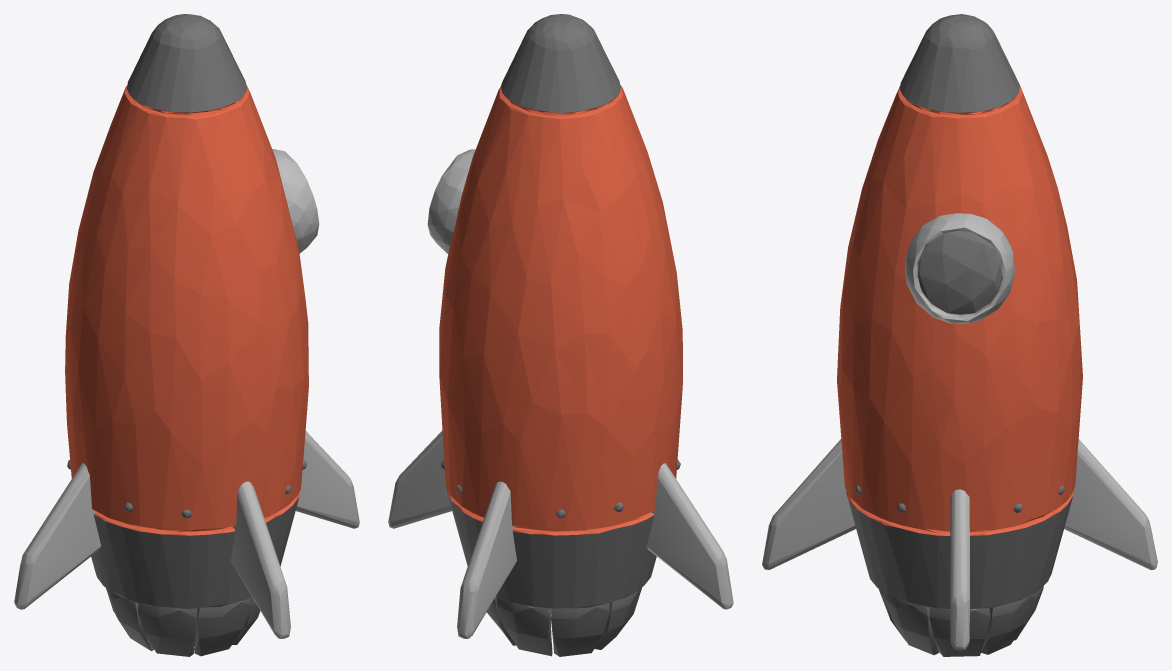
The model's file is rocket.glb.
3 views of the same model, side by side, from view 1: azimuth 30°, elevation 25°; view 2: azimuth 150°, elevation 25°; view 3: azimuth 270°, elevation 25° (orthographic).
Visible parts, largest first — view 1: Cylinder.1, Connect_1, Cube_3, Cube_2, Cube_1, Cylinder; view 2: Cylinder.1, Cube_3, Connect_1, Cube_0, Cube_1, Cylinder; view 3: Cylinder.1, Cube_2, Cube_0, Connect_1, Sphere_1, Cylinder, Cube_1.
Boxes of the visible parts, bbox=[...] form: Cylinder.1: bbox=[65, 14, 308, 609]; Connect_1: bbox=[106, 588, 260, 656]; Cube_3: bbox=[14, 463, 101, 609]; Cube_2: bbox=[231, 481, 290, 638]; Cube_1: bbox=[295, 431, 359, 528]; Cylinder: bbox=[272, 149, 319, 253]; Cylinder.1: bbox=[439, 14, 682, 608]; Cube_3: bbox=[646, 463, 733, 609]; Connect_1: bbox=[486, 588, 641, 656]; Cube_0: bbox=[457, 481, 516, 638]; Cube_1: bbox=[388, 431, 451, 528]; Cylinder: bbox=[427, 149, 475, 253]; Cylinder.1: bbox=[837, 14, 1082, 609]; Cube_2: bbox=[762, 439, 855, 569]; Cube_0: bbox=[1064, 439, 1157, 569]; Connect_1: bbox=[878, 586, 1043, 656]; Sphere_1: bbox=[918, 230, 1001, 314]; Cylinder: bbox=[904, 213, 1014, 324]; Cube_1: bbox=[950, 489, 969, 650].
Bounding box in the file's own units: 0.7376 × 1.26 × 0.7376.
